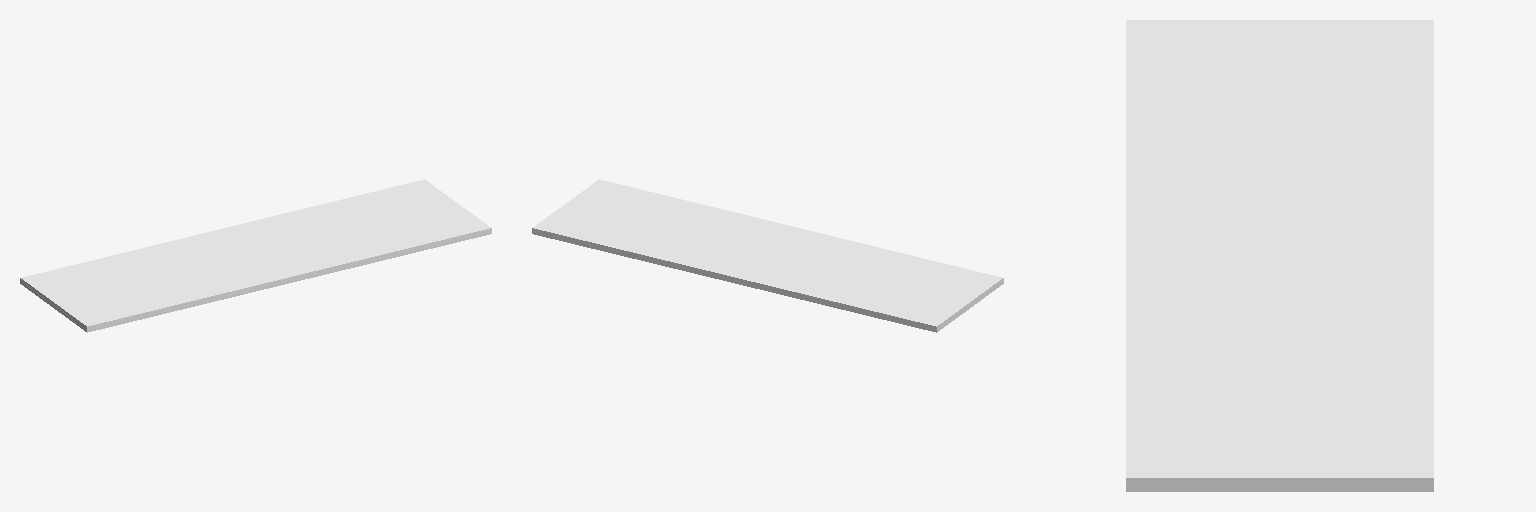
URDF robot description (construct_floor01):
<?xml version="1.0" ?>
<robot name="construct_floor01">
 <link name="baseLink">
   <contact>
     <lateral_friction value="0.5"/>
   </contact>
   <inertial>
     <origin rpy="0 0 0" xyz="0.7 0.2 0.75"/>
      <mass value="1.0"/>
      <inertia ixx="0.000150" ixy="-0.000000" ixz="-0.000000" iyy="0.001830" iyz="-0.000000" izz="0.001979"/>
   </inertial>
   <visual>
     <origin rpy="0 0 0" xyz="0 0 0"/>
     <geometry>
       <mesh filename="construct_floor01.obj" scale="1.0 1.0 1.0"/>
     </geometry>
      <material name="white">
       <color rgba="1 1 1 1"/>
     </material>
   </visual>
   <collision>
     <origin rpy="0 0 0" xyz="0 0 0"/>
     <geometry>
       <mesh filename="construct_floor01.obj" scale="1.0 1.0 1.0"/>
     </geometry>
   </collision>
 </link>
</robot>

--- What the picture shows (computed from the rendered views, not written in the file) ---
The picture shows the robot from 3 angles, left to right: view 1: azimuth 30°, elevation 25°; view 2: azimuth 150°, elevation 25°; view 3: azimuth 270°, elevation 25°; orthographic projection.
Robot: construct_floor01 — 1 links, 0 joints (none); root link baseLink; default pose: all joints at 0.
Visible links, largest first — view 1: baseLink; view 2: baseLink; view 3: baseLink.
Link boxes in pixels (x1,y1,x2,y2): baseLink: (20,179,491,332); baseLink: (532,179,1003,332); baseLink: (1126,20,1433,491).
Bounding box of the posed robot: 1.4 × 0.4 × 0.02 m (x, y, z).
1 mesh visuals loaded from 1 distinct referenced files (1 OBJ).
